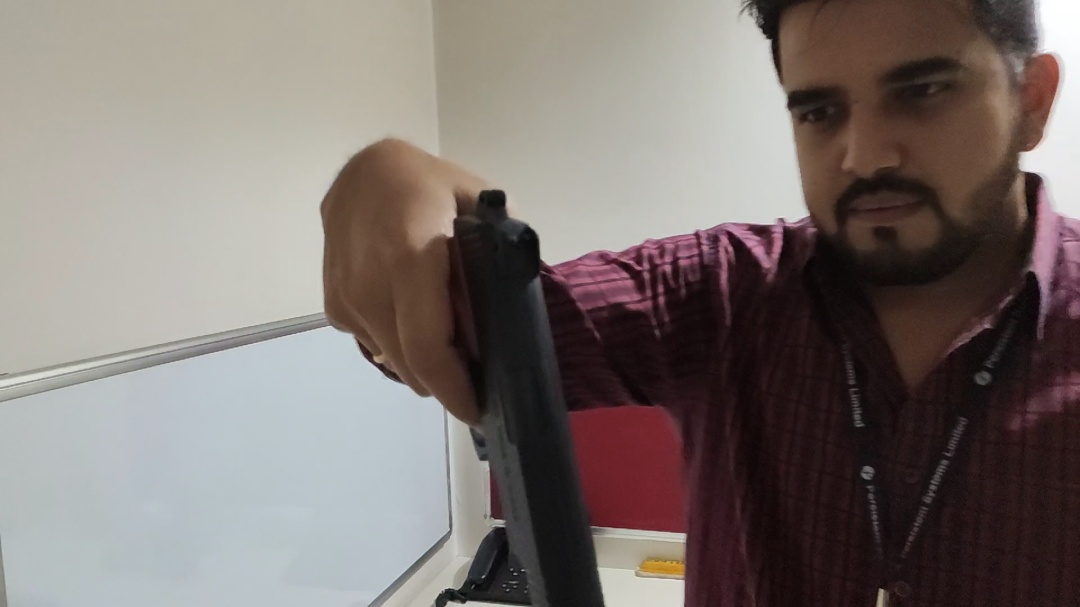gun: (410, 186, 623, 604)
